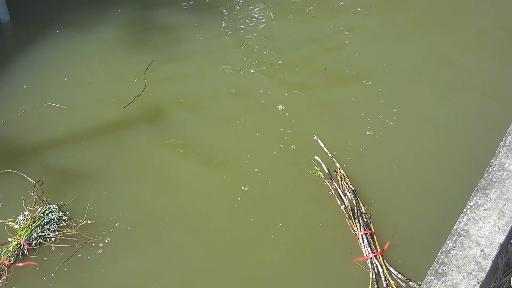twig: (327, 140, 427, 288), (1, 160, 91, 288), (122, 51, 170, 104)
